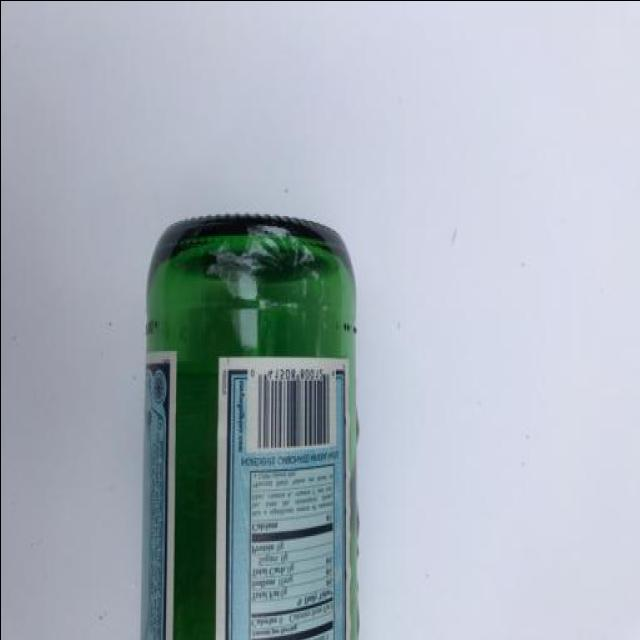glass: (136, 213, 367, 640)
